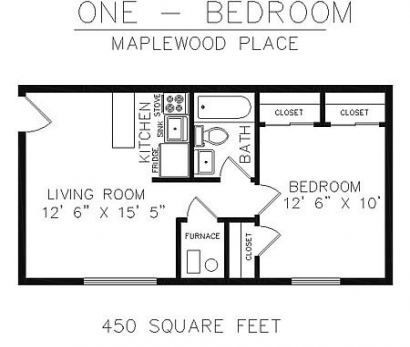door: (21, 98, 55, 136), (217, 156, 255, 181), (258, 224, 286, 257), (259, 185, 283, 219), (188, 196, 216, 223)
room: (11, 82, 184, 288), (258, 80, 398, 293), (185, 102, 262, 186), (177, 221, 261, 283)
wall: (15, 81, 395, 97), (383, 82, 397, 287), (155, 274, 293, 289), (17, 135, 28, 288), (17, 273, 84, 290), (250, 92, 262, 184), (151, 175, 224, 186), (340, 273, 395, 287), (187, 95, 195, 184), (221, 221, 233, 280), (174, 213, 183, 281), (216, 212, 257, 226), (251, 257, 265, 281)
window: (82, 275, 156, 287), (293, 274, 341, 289)
